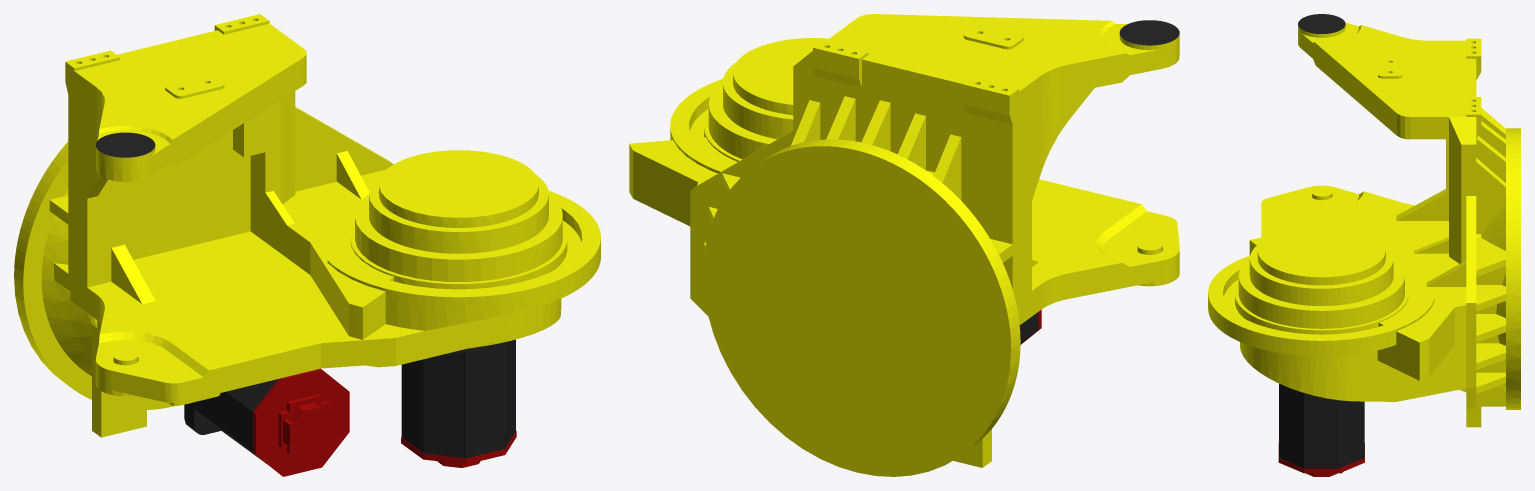
3 views of the same model, side by side, from view 1: azimuth 30°, elevation 25°; view 2: azimuth 150°, elevation 25°; view 3: azimuth 270°, elevation 25° (orthographic). The views are drawn at different scales.
Visible parts, largest first — view 1: node; view 2: node; view 3: node.
Part boxes in pixels (x1,y1,x2,y2): node: (14,14,600,476); node: (629,14,1179,476); node: (1208,14,1520,476).
Size of the model in its own units: 897 by 702 by 630.
